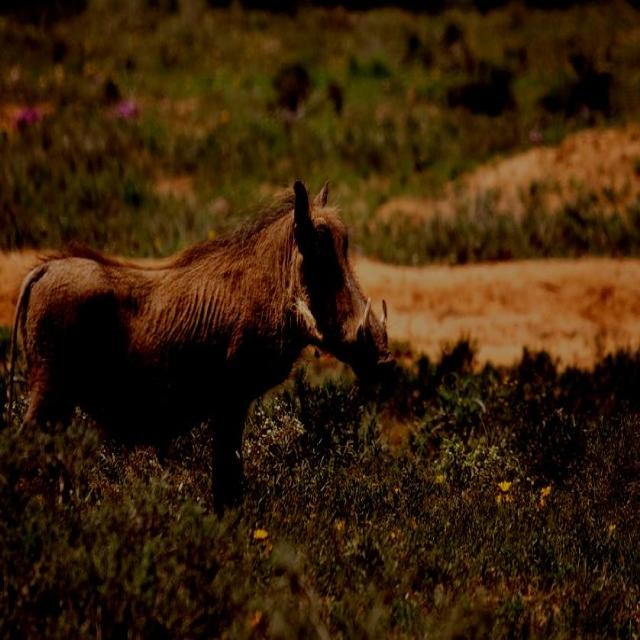pig: (9, 180, 392, 512)
